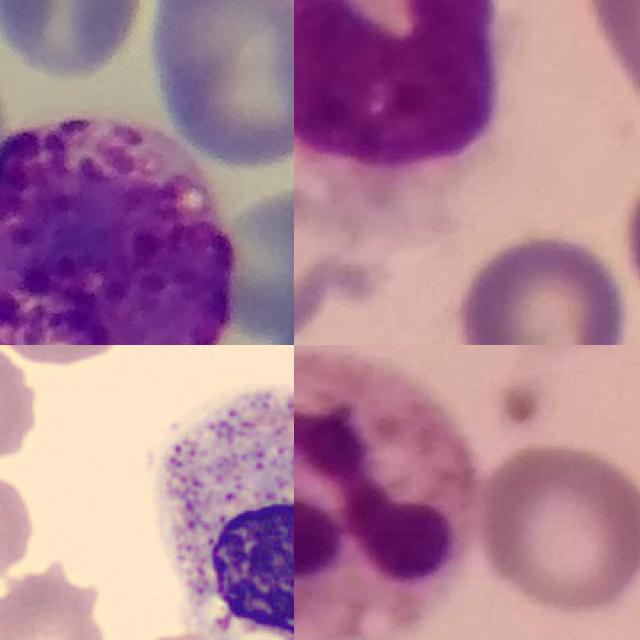Basophil: (0, 114, 235, 345)
Monocyte: (137, 364, 294, 640), (294, 0, 499, 167)
Neutrophil: (294, 349, 482, 640)
RBC: (0, 553, 129, 640), (0, 463, 41, 597)
